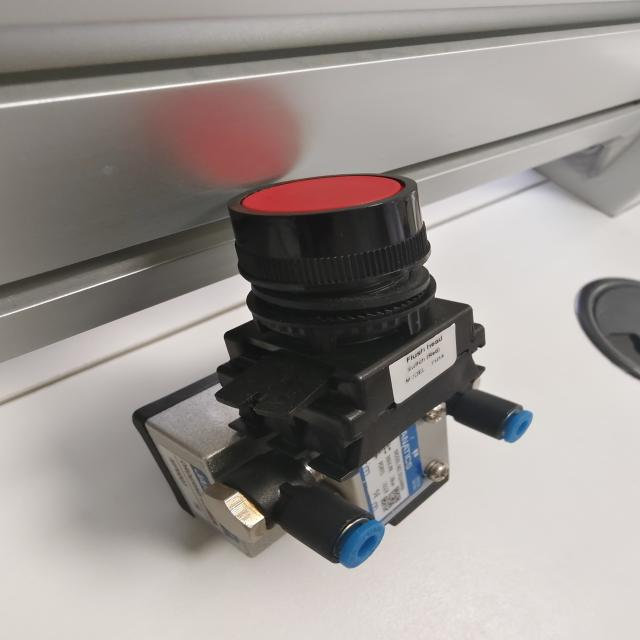push button: (132, 172, 534, 568)
